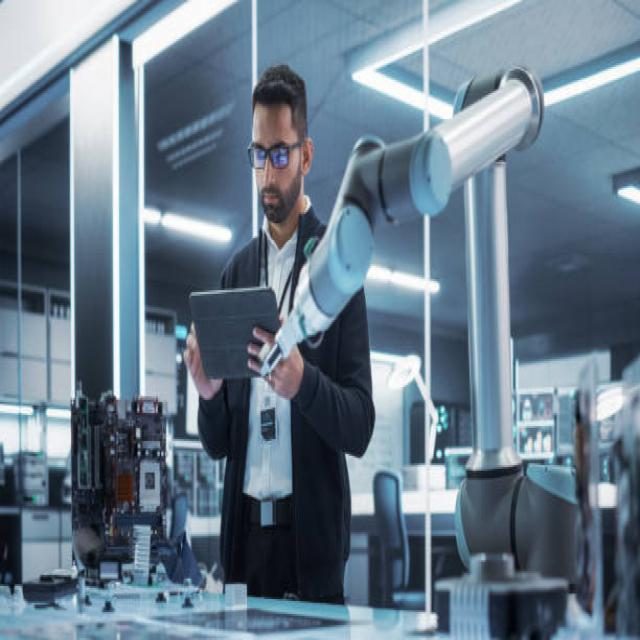Robotic-arm: (271, 68, 544, 464)
